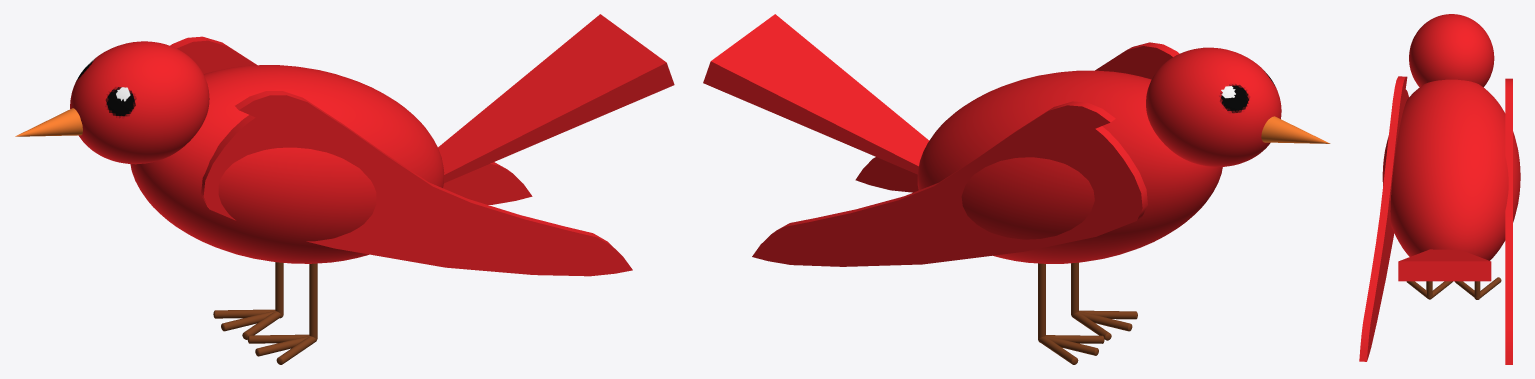
Rendered from bird.fbx.
3 views of the same model, side by side, from view 1: azimuth 30°, elevation 25°; view 2: azimuth 150°, elevation 25°; view 3: azimuth 270°, elevation 25° (orthographic). The views are drawn at different scales.
Parts seen in each view (by area): view 1: root (×7); view 2: root (×7); view 3: root (×6).
Part boxes in pixels (box(x1,y1,x2,y2)): root (×7): box(15, 14, 674, 340); root (×7): box(703, 14, 1330, 342); root (×6): box(1359, 14, 1520, 364).
Size of the model in its own units: 0.2699 by 0.1342 by 0.0868.
Materials: 14 (14 with a texture image).
